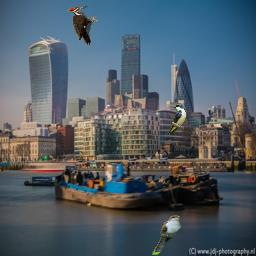Cuckoo: (152, 215, 182, 255)
Swallow: (167, 103, 187, 135)
Woodpecker: (67, 6, 98, 46)
